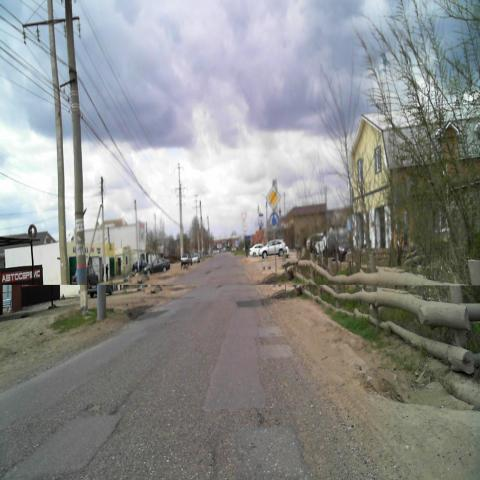4_3: (269, 213, 279, 231)
